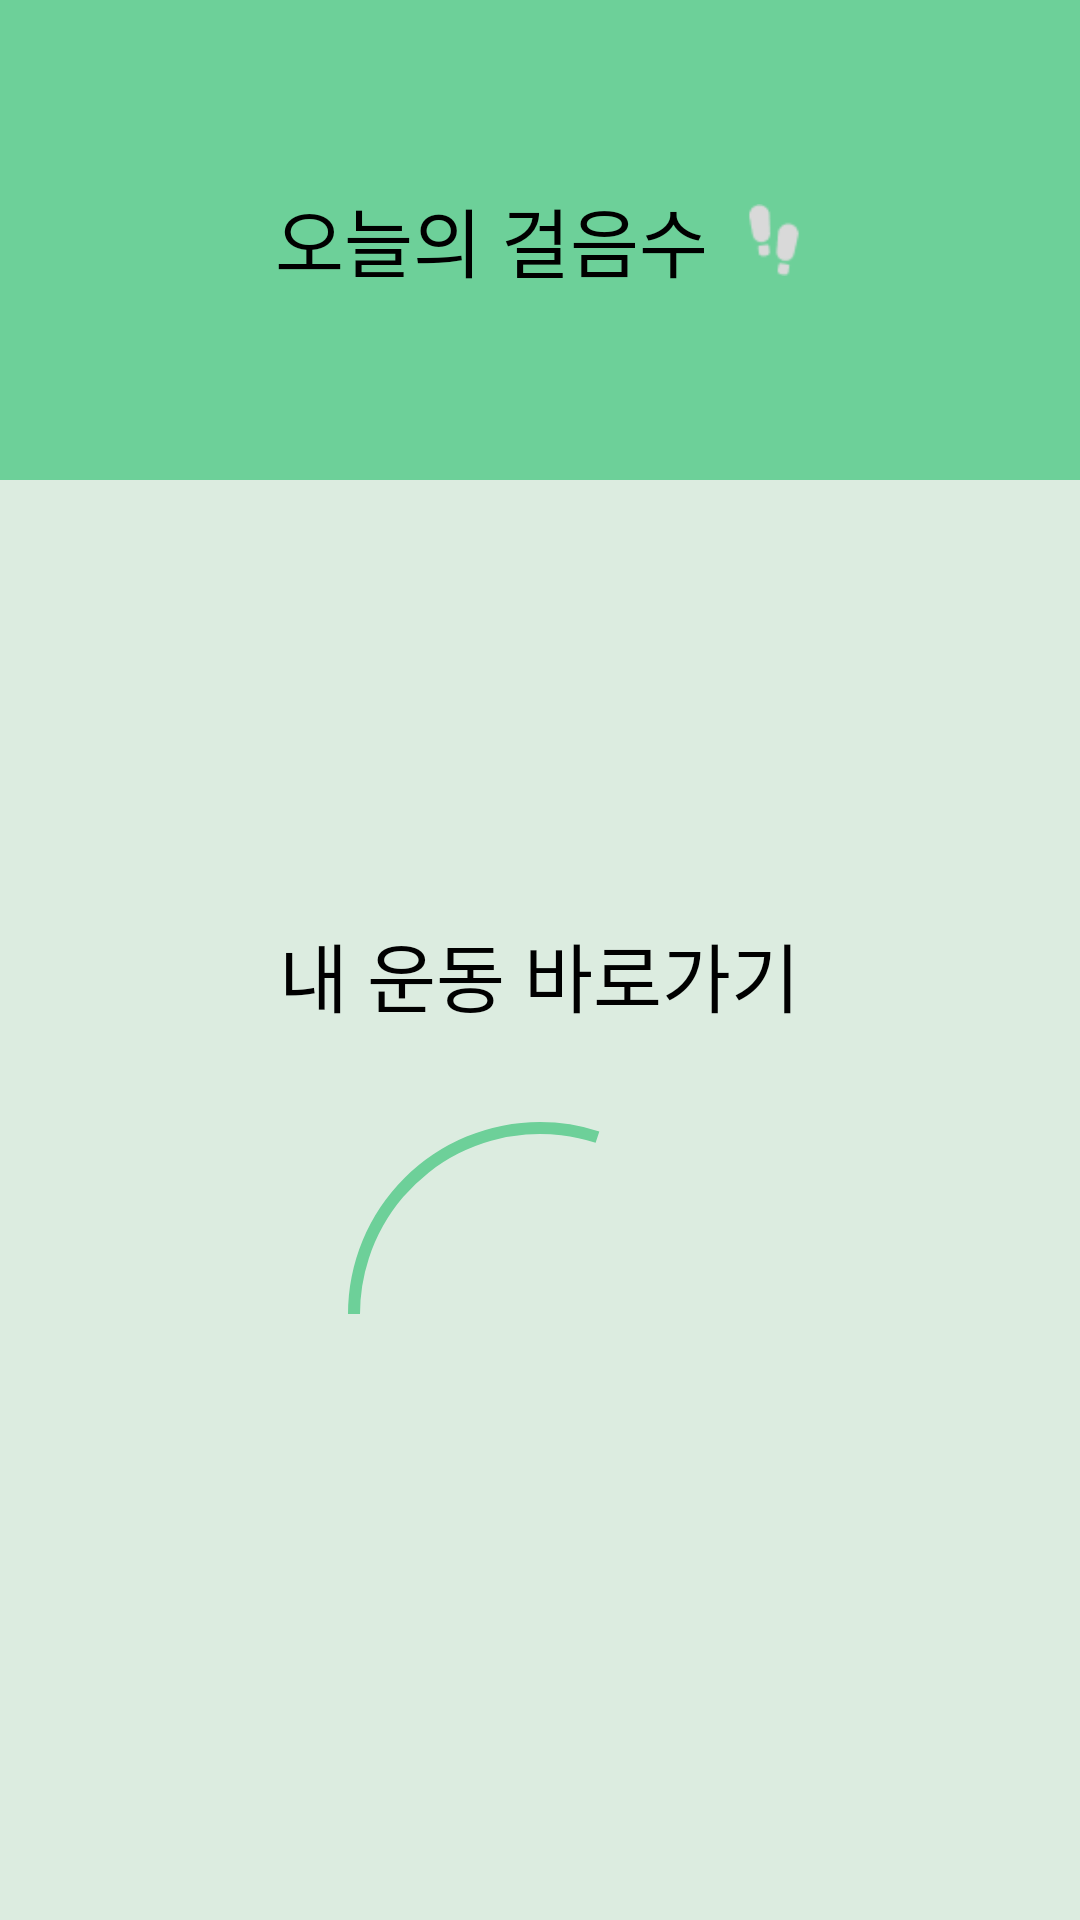

Screen size 1080x1920. Icon name, then its box in pixels as (x1, y1, x2, y2):
footstep: (749, 204, 799, 276)
